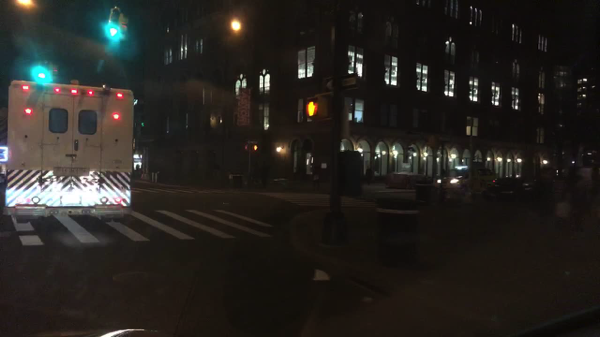car: (483, 176, 537, 200), (433, 169, 470, 189), (461, 168, 499, 186)
person: (260, 159, 270, 188), (311, 165, 321, 190), (364, 166, 374, 185)
traffic light: (303, 97, 329, 121), (117, 15, 126, 42), (109, 11, 116, 37), (37, 60, 46, 79), (51, 62, 59, 83), (251, 142, 259, 153), (243, 143, 251, 152)
traffic sign: (320, 74, 360, 91)
truck: (1, 79, 137, 226)
